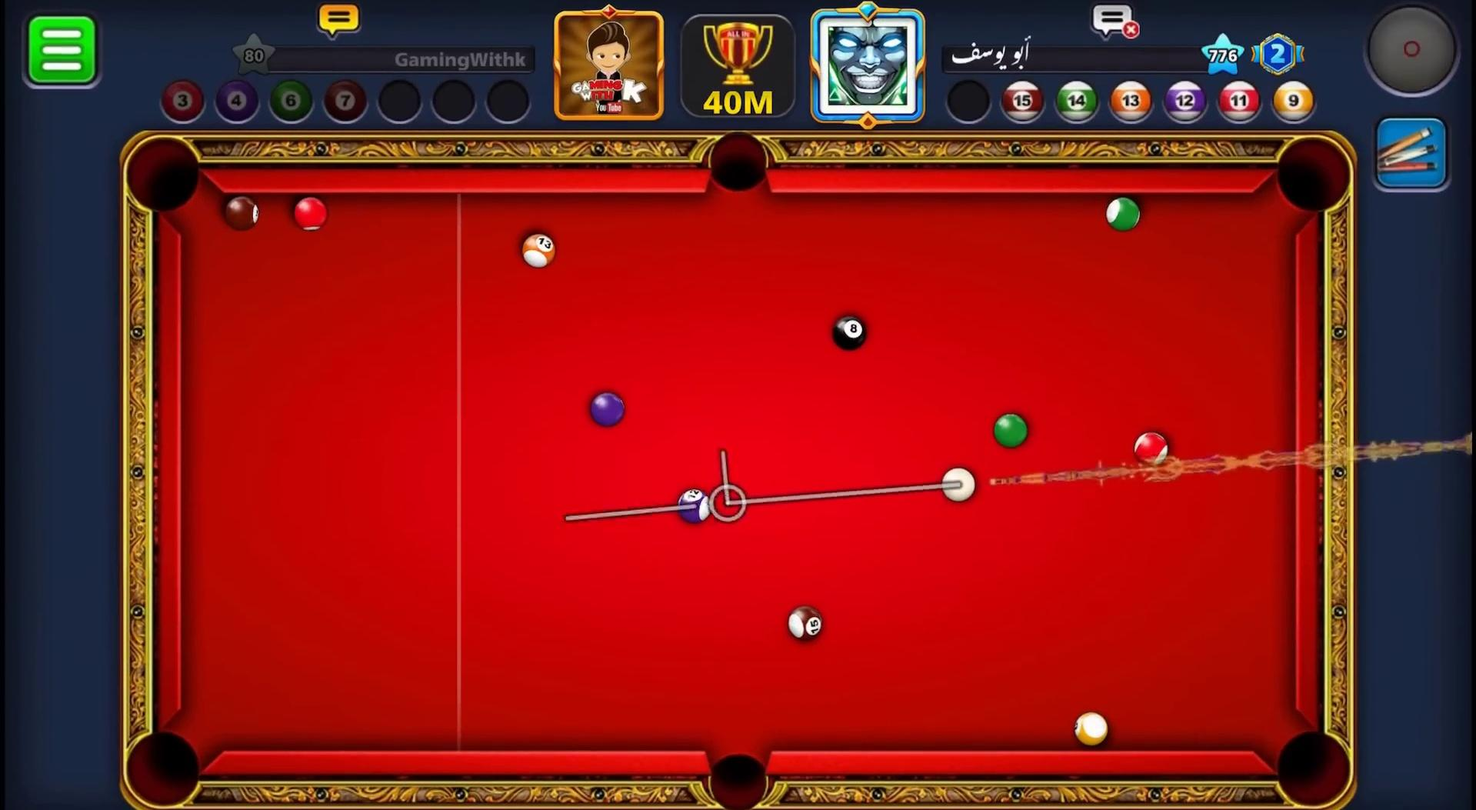Ball: (1068, 703, 1110, 752), (1132, 424, 1170, 469), (292, 197, 331, 235), (788, 603, 823, 645), (221, 196, 262, 231), (590, 391, 625, 427), (833, 314, 867, 350), (678, 489, 712, 524), (522, 232, 555, 268), (1107, 197, 1141, 231), (993, 413, 1027, 447)
Guideline: (718, 447, 958, 513), (567, 501, 688, 527), (710, 485, 747, 522)
Hole: (1271, 723, 1353, 805), (126, 137, 205, 218), (1274, 135, 1351, 213), (126, 730, 203, 805), (708, 132, 768, 192), (707, 754, 770, 810)
Play_Area: (180, 195, 1293, 749)
Spin: (1362, 4, 1462, 102)
White: (938, 466, 980, 510)
